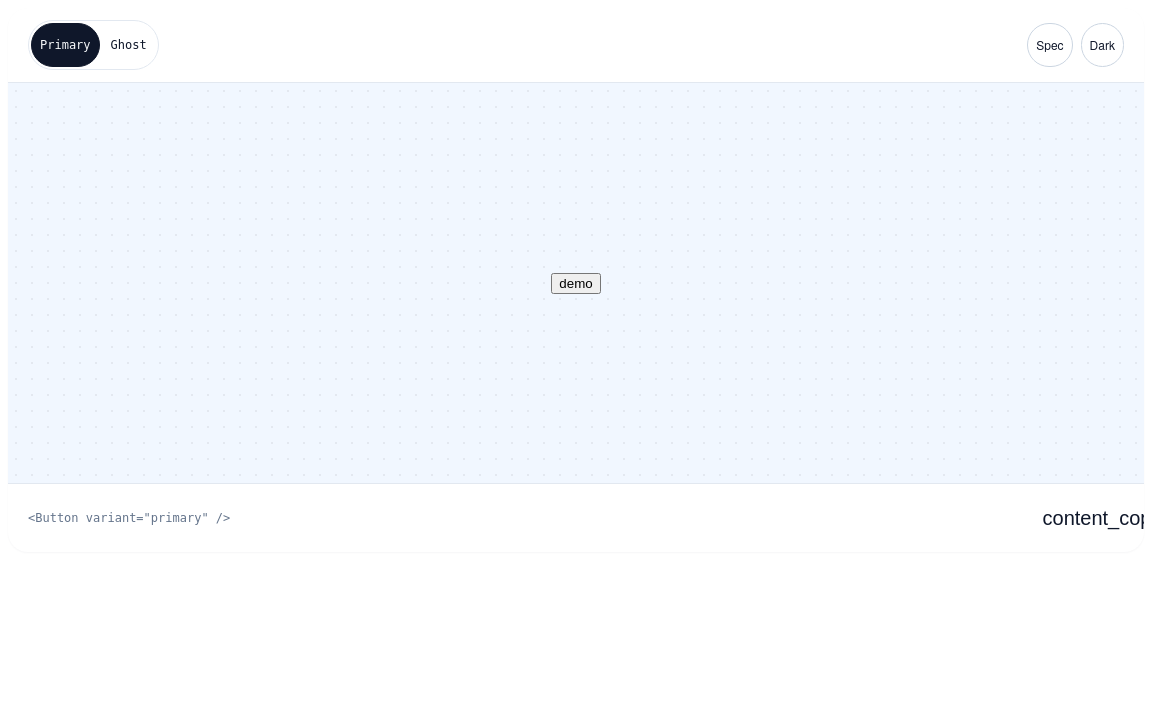
it: conformance canon · banco documental › pc-2: el snippet refleja la variante activa
Expected: the text "<Button variant=\"primary\" />" is shown, [28,511,230,525]
Click the button "Ghost".
click(129, 45)  # box [102,23,156,67]
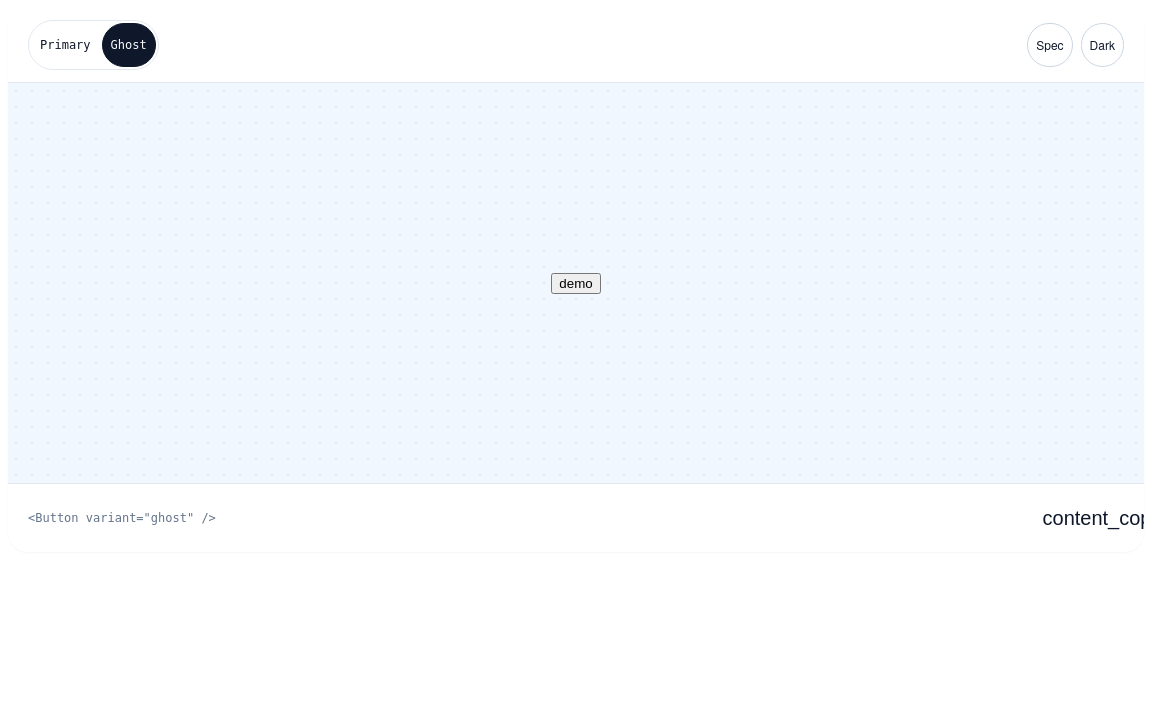
Expected: the text "<Button variant=\"ghost\" />" is shown, [28,511,216,525]
